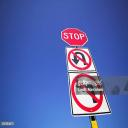NoVirarEsquerda: (70, 74, 107, 116)
NoVirarU: (66, 48, 94, 72)
